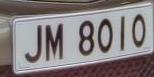0: (96, 14, 116, 58), (129, 10, 149, 52)
1: (116, 13, 130, 55)
8: (76, 16, 96, 63)
J: (21, 22, 45, 66)
M: (43, 20, 67, 65)
